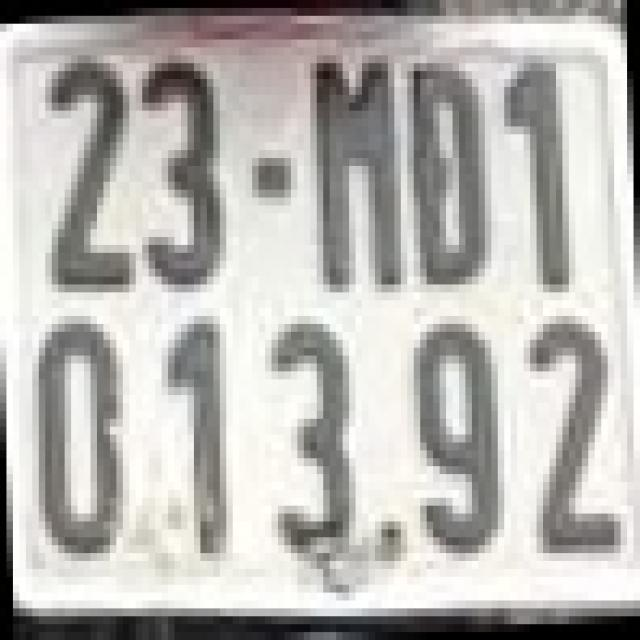0: (32, 312, 130, 557)
1: (162, 320, 239, 557), (504, 59, 582, 288)
2: (520, 312, 630, 557), (42, 55, 139, 292)
3: (262, 316, 359, 553), (142, 59, 226, 288)
9: (410, 320, 508, 557)
D: (408, 63, 492, 284)
M: (307, 52, 404, 288)
